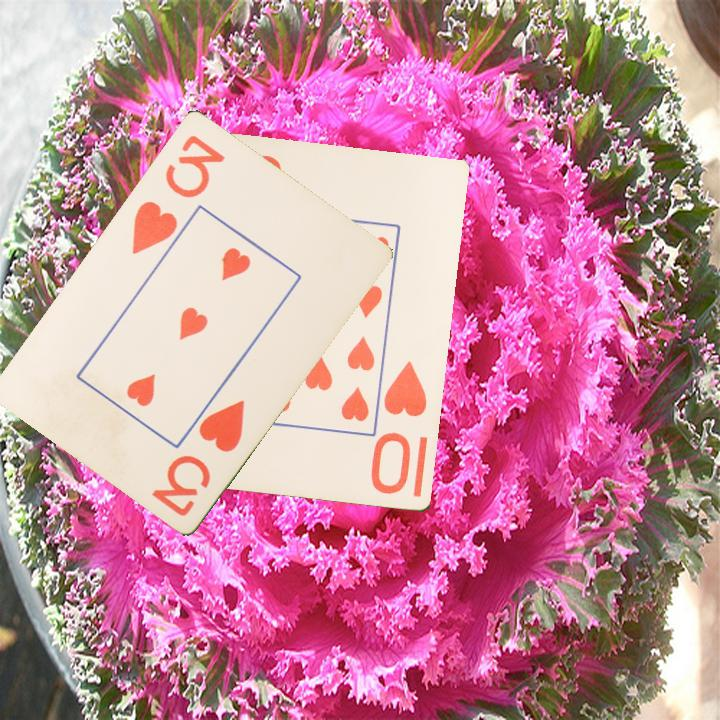10h: (370, 357, 430, 498)
3h: (127, 130, 228, 257), (148, 395, 248, 519)
